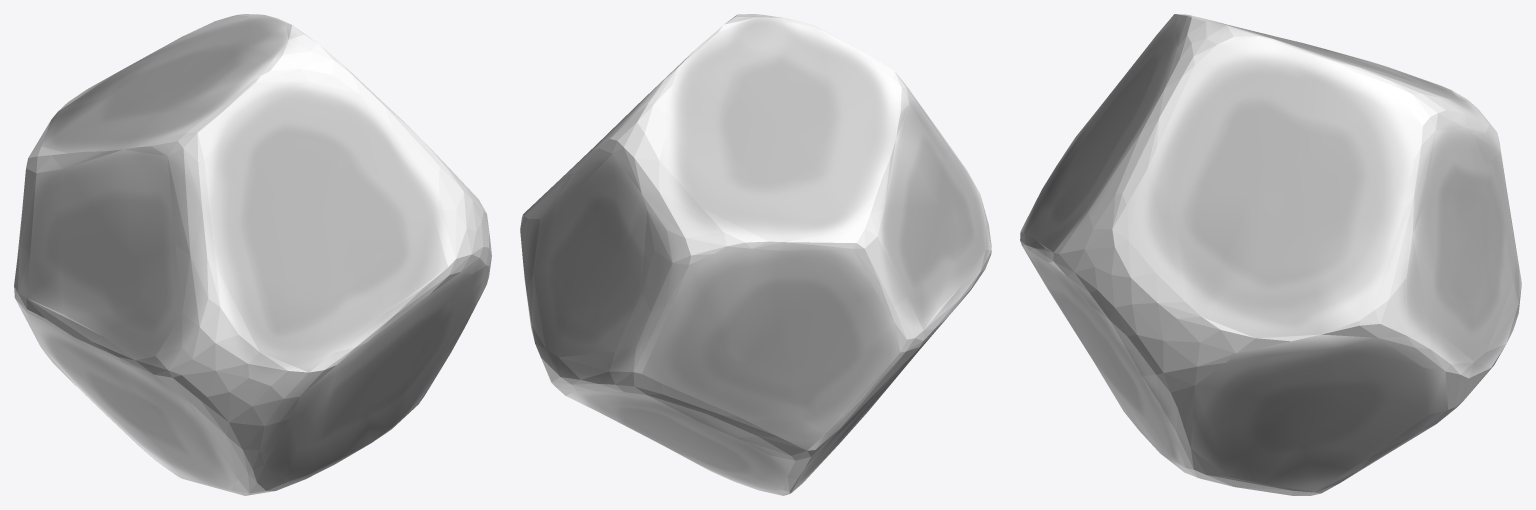
File: stoune1.fbx
3 views of the same model, side by side, from view 1: azimuth 30°, elevation 25°; view 2: azimuth 150°, elevation 25°; view 3: azimuth 270°, elevation 25° (orthographic). The views are drawn at different scales.
Visible parts, largest first — view 1: StouneLP; view 2: StouneLP; view 3: StouneLP.
Boxes of the visible parts, box(x1,y1,x2,y2) form: StouneLP: box(14, 14, 491, 495); StouneLP: box(520, 14, 991, 495); StouneLP: box(1020, 14, 1521, 495).
Bounding box in the file's own units: 191 × 201 × 198.
1 material, 1 textured.
